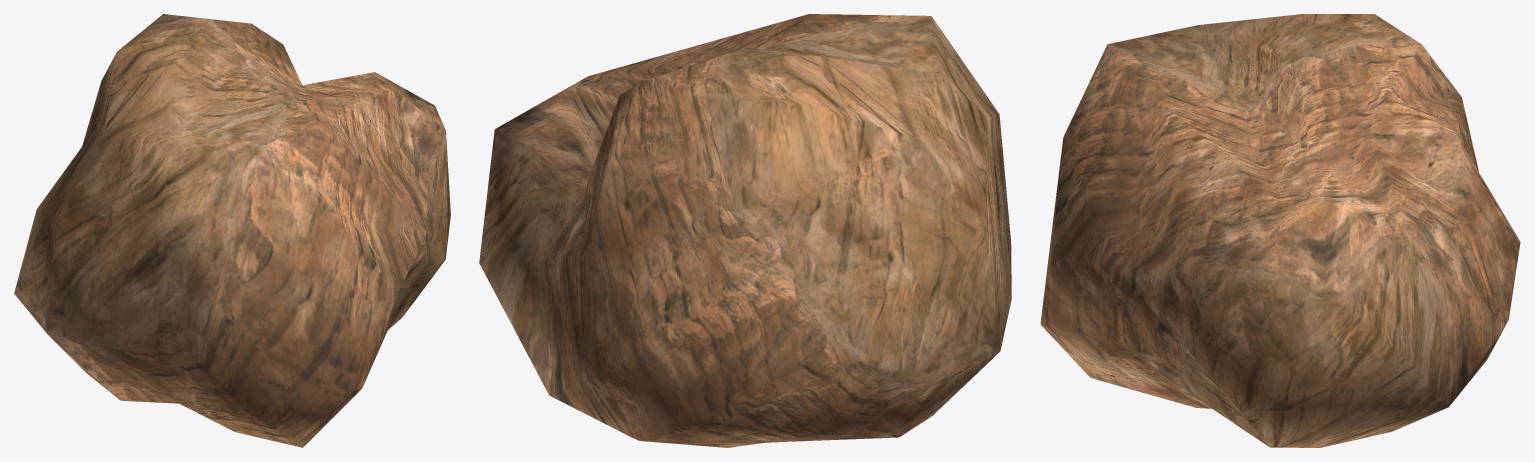
The model's file is rock_tatt_bensmesa_boulder_l1.fbx.
The picture shows the model from 3 angles, left to right: view 1: azimuth 30°, elevation 25°; view 2: azimuth 150°, elevation 25°; view 3: azimuth 270°, elevation 25°; orthographic projection. The views are drawn at different scales.
Parts seen in each view (by area): view 1: mesh_node; view 2: mesh_node; view 3: mesh_node.
Part boxes in pixels (<box>): mesh_node: <box>14,14,450,447</box>; mesh_node: <box>479,14,1011,447</box>; mesh_node: <box>1040,14,1520,447</box>.
Size of the model in its own units: 3.28 by 2.58 by 3.07.
